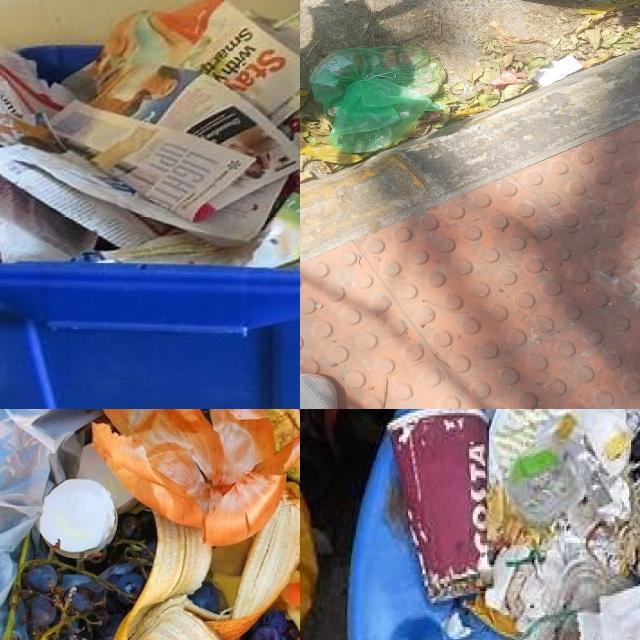Background: (300, 0, 640, 183)
Disposable: (549, 551, 635, 611)
Garbage: (0, 0, 300, 270), (0, 409, 300, 640), (391, 409, 640, 640)
Plastic: (39, 479, 118, 558)
Plastic_Bag: (309, 46, 446, 152)
Plastic_wraper: (488, 409, 640, 545)
